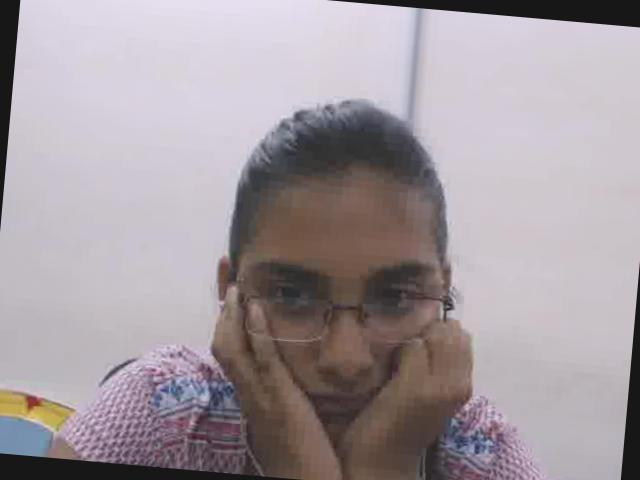bosan: (218, 171, 456, 469)
